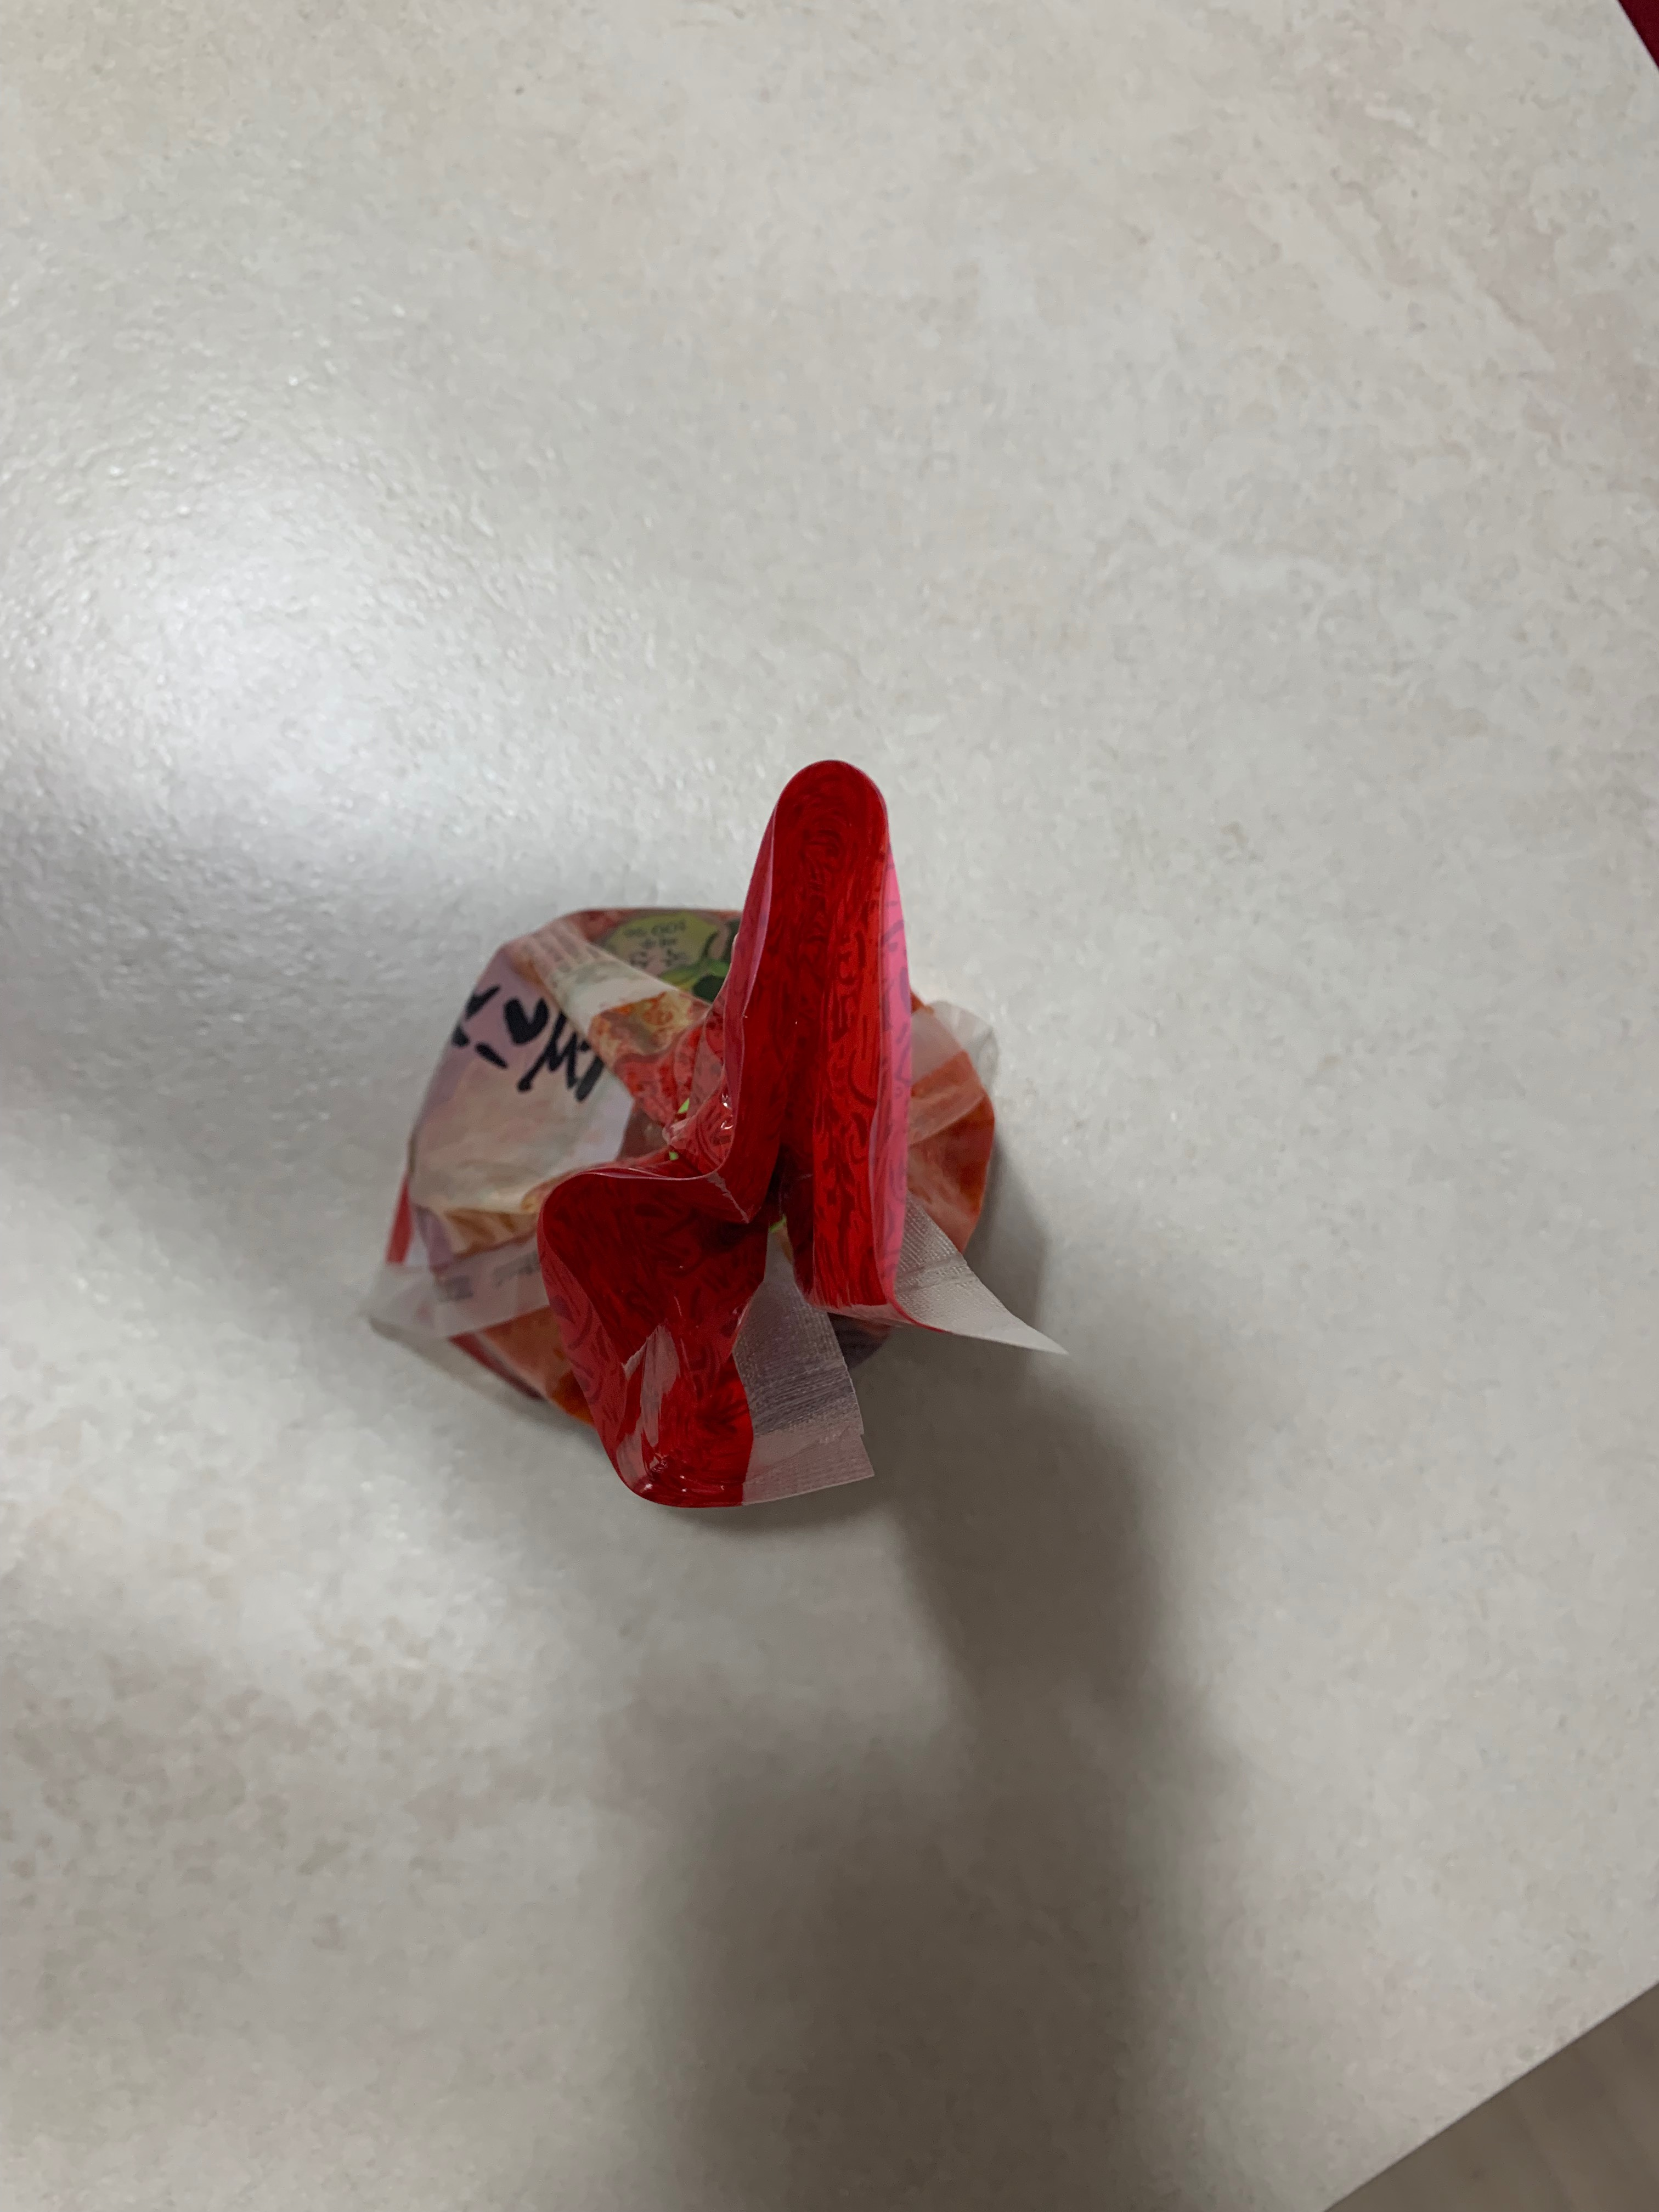kimchi: (380, 761, 1006, 1517)
